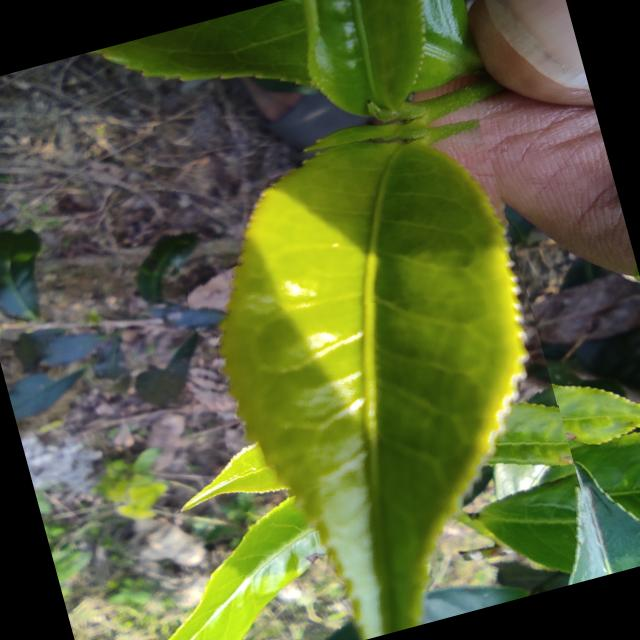Category B(2-4 days): (154, 92, 604, 640)
